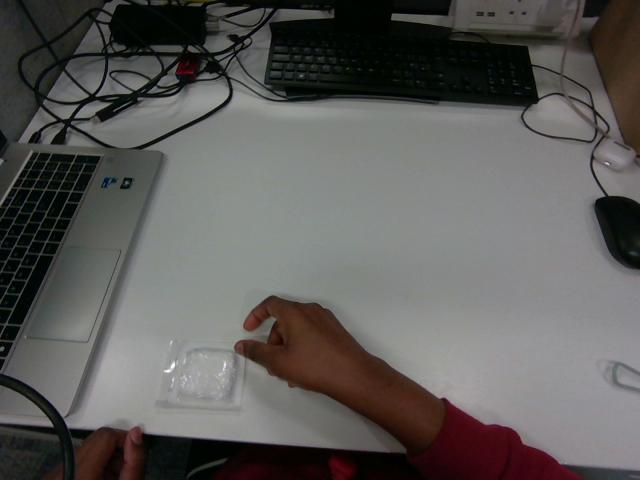gauze: (157, 340, 244, 409)
